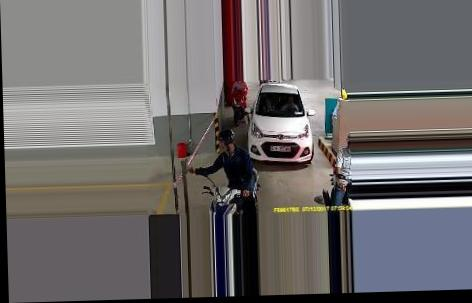License_Plate: (270, 142, 294, 152)
